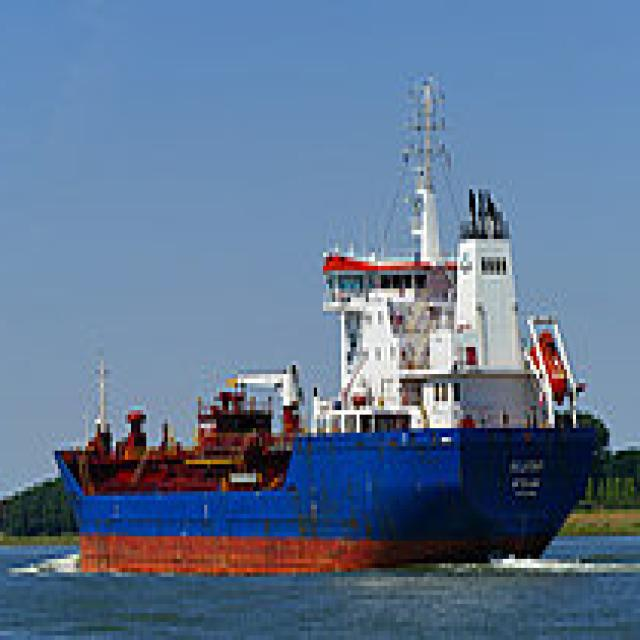Tanker: (55, 72, 609, 577)
